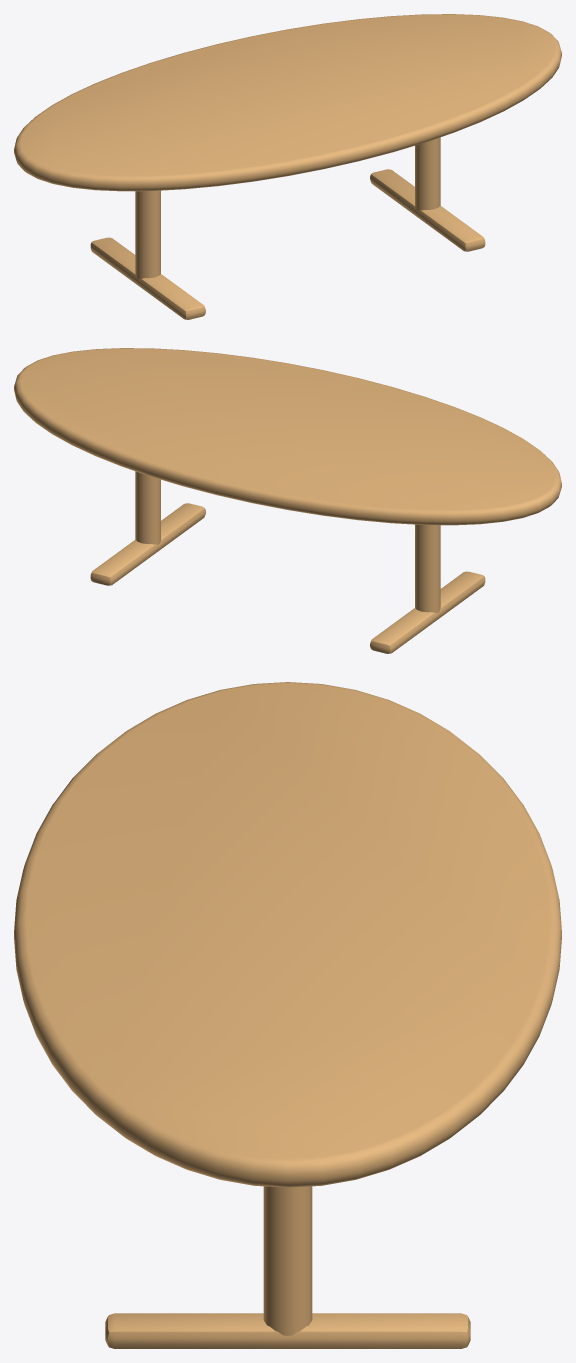
The model's file is meeting_table_pine.glb.
3 views of the same model, one above another, from view 1: azimuth 30°, elevation 25°; view 2: azimuth 150°, elevation 25°; view 3: azimuth 270°, elevation 25° (orthographic). The views are drawn at different scales.
Visible parts, largest first — view 1: pine; view 2: pine; view 3: pine.
Part boxes in pixels (x1,y1,x2,y2): pine: (14,14,561,319); pine: (14,348,561,653); pine: (14,682,561,1348).
Size of the model in its own units: 1.89 by 0.53 by 0.9.
